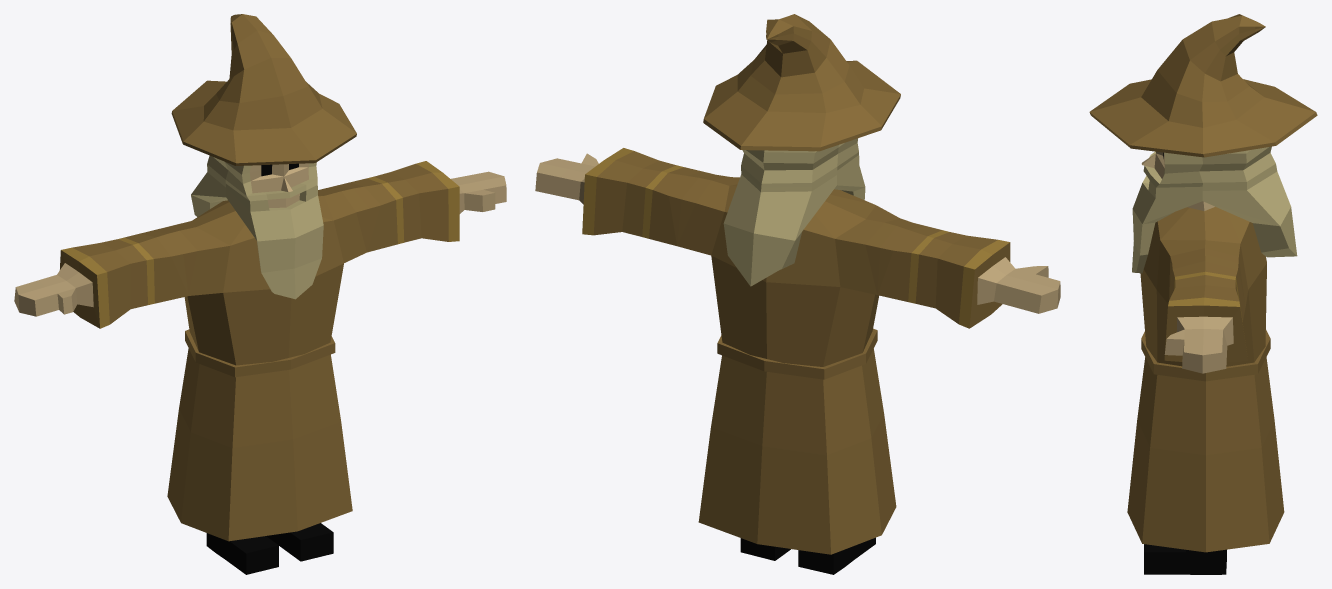
Rendered from wizard_lefyahj.fbx.
3 views of the same model, side by side, from view 1: azimuth 30°, elevation 25°; view 2: azimuth 150°, elevation 25°; view 3: azimuth 270°, elevation 25° (orthographic). The views are drawn at different scales.
Visible parts, largest first — view 1: Cube; view 2: Cube; view 3: Cube.
Boxes of the visible parts, box(x1,y1,x2,y2) form: Cube: box(14, 14, 506, 574); Cube: box(535, 14, 1060, 574); Cube: box(1089, 14, 1317, 574).
Bounding box in the file's own units: 254 × 257 × 99.13.
